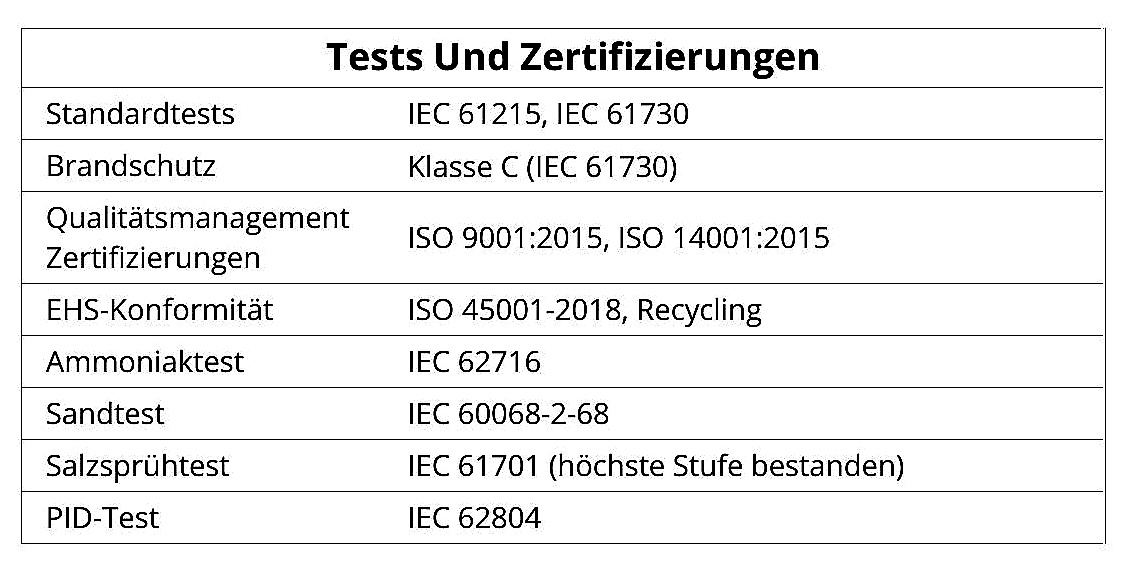table: (11, 21, 1111, 548)
table column: (404, 28, 1107, 542), (20, 27, 403, 541)
table name: (19, 30, 1108, 85)
table row: (19, 192, 1106, 285), (19, 27, 1106, 88), (19, 336, 1105, 389), (19, 439, 1105, 492), (19, 389, 1105, 441), (19, 285, 1105, 336), (20, 140, 1105, 190), (20, 88, 1104, 137), (20, 494, 1107, 541)
table row header: (18, 27, 406, 543)
table spanning cell: (19, 27, 1105, 85)
